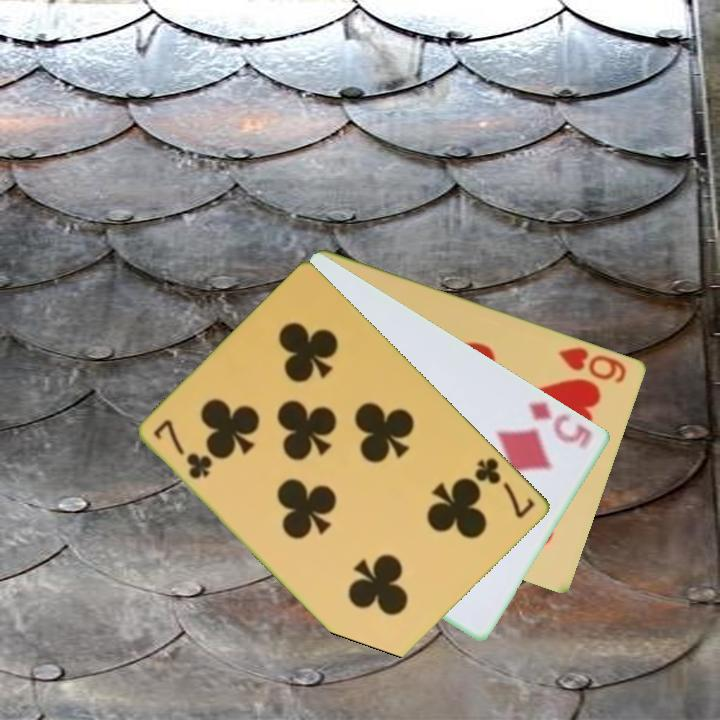5d: (525, 398, 596, 452)
6h: (555, 343, 630, 386)
7c: (471, 454, 539, 522), (150, 415, 216, 482)
